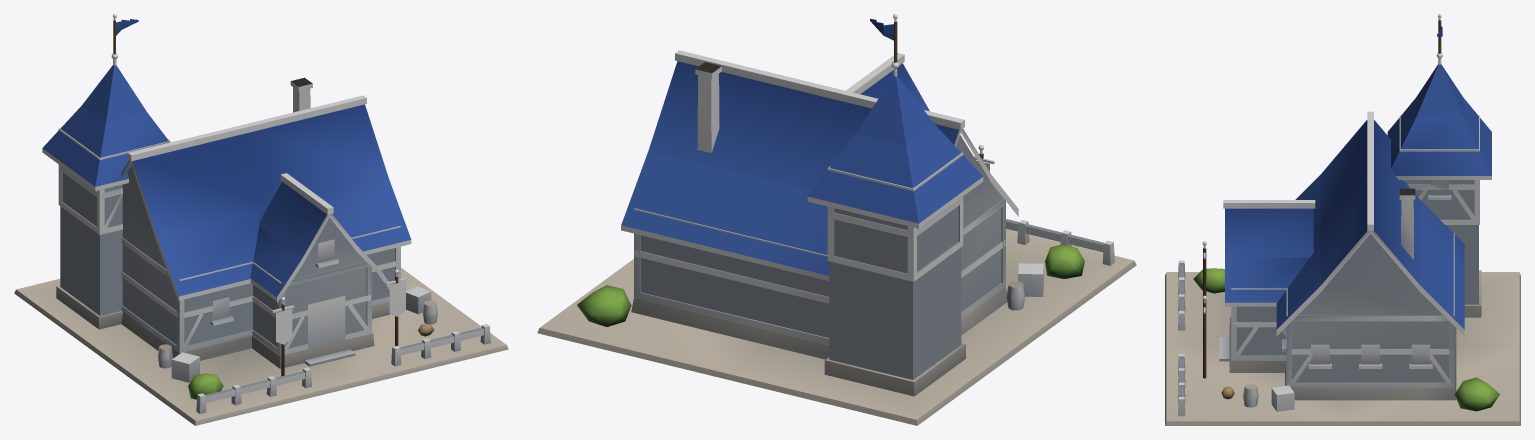
File: city_hall_t2.glb
3 views of the same model, side by side, from view 1: azimuth 30°, elevation 25°; view 2: azimuth 150°, elevation 25°; view 3: azimuth 270°, elevation 25° (orthographic). The views are drawn at different scales.
Visible parts, largest first — view 1: city_hall_t2; view 2: city_hall_t2; view 3: city_hall_t2.
Part boxes in pixels (x1,y1,x2,y2): city_hall_t2: [14, 14, 508, 425]; city_hall_t2: [537, 14, 1136, 425]; city_hall_t2: [1165, 14, 1520, 425].
Bounding box in the file's own units: 3.86 × 3.47 × 3.86.
